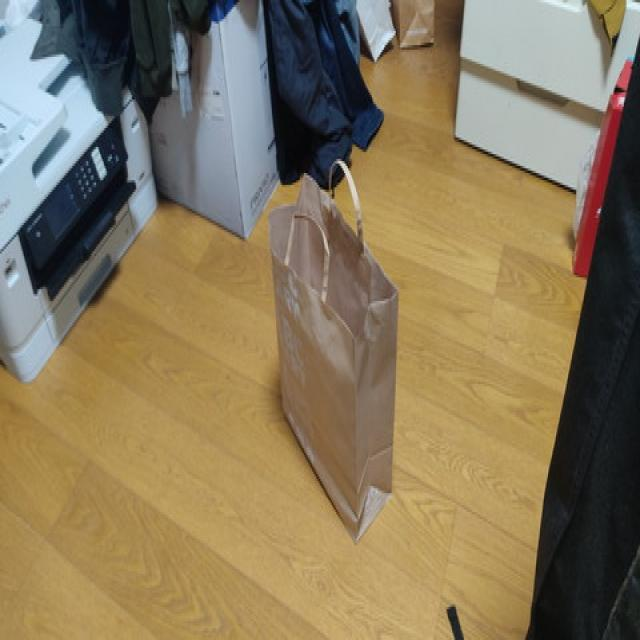paper bag: (266, 155, 401, 541)
